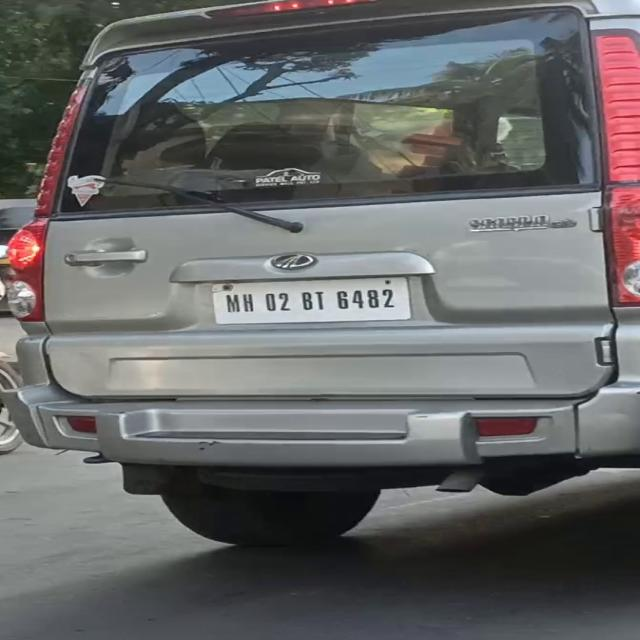Plate: (211, 276, 411, 325)
